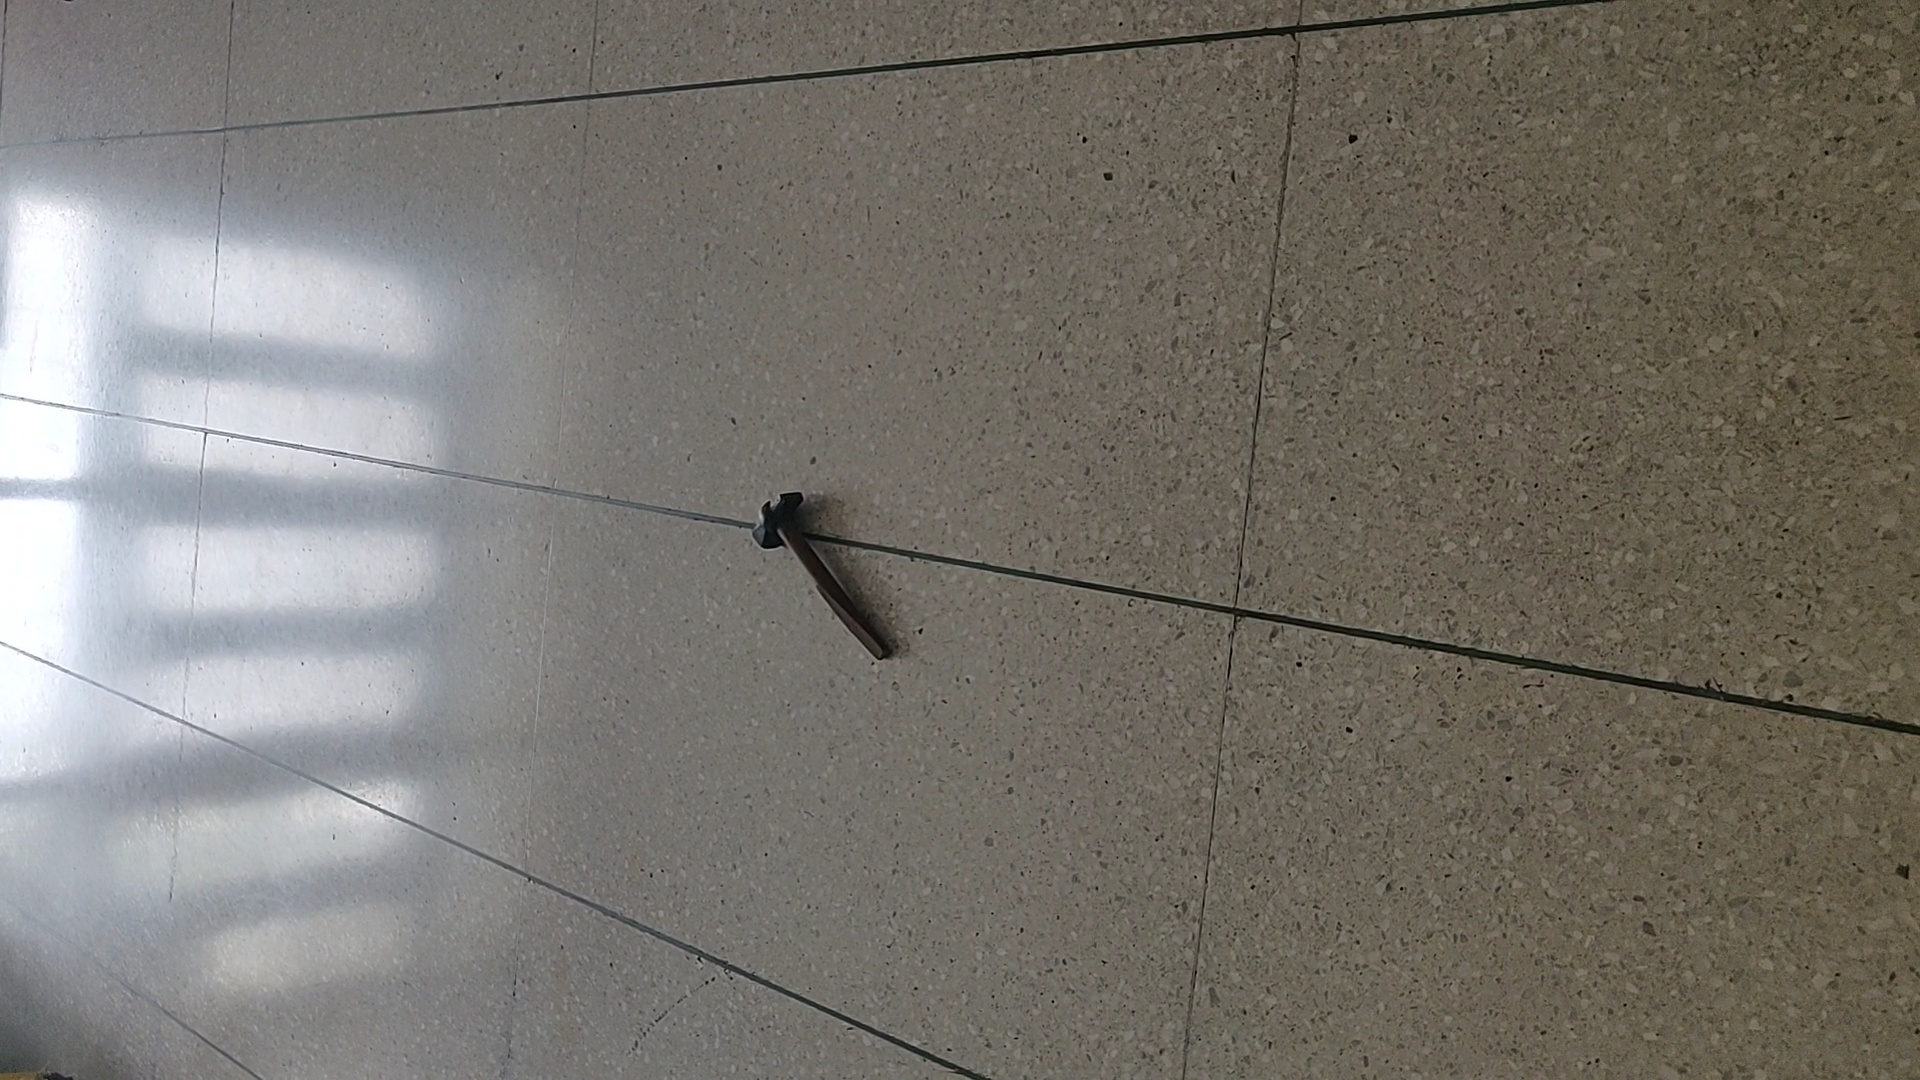hammer: (748, 489, 891, 665)
